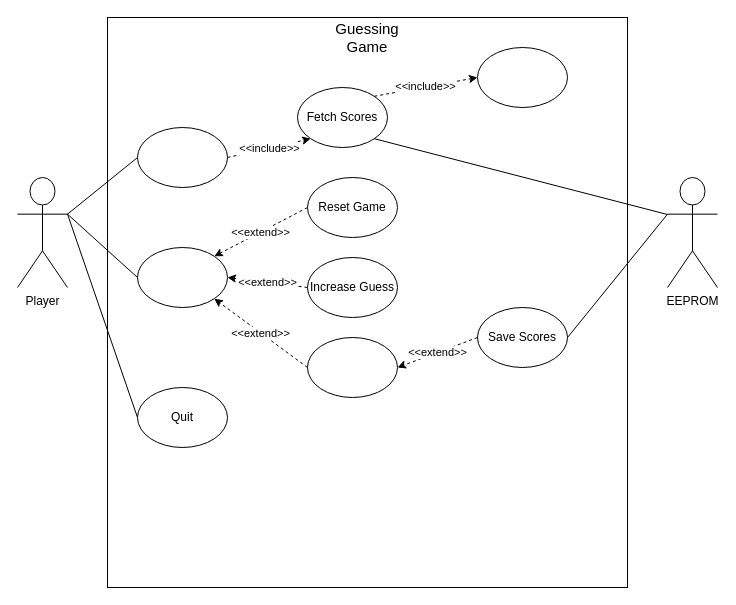
Image size: 736x605. Some labels were removed from this diagram. Here are the shapes that lost their labels. From the top down, the box of each, then its label:
(476, 46, 568, 108): Display Scores
(136, 126, 228, 188): View High Scores
(136, 246, 228, 308): Play Game
(306, 336, 398, 398): Submit Guess
